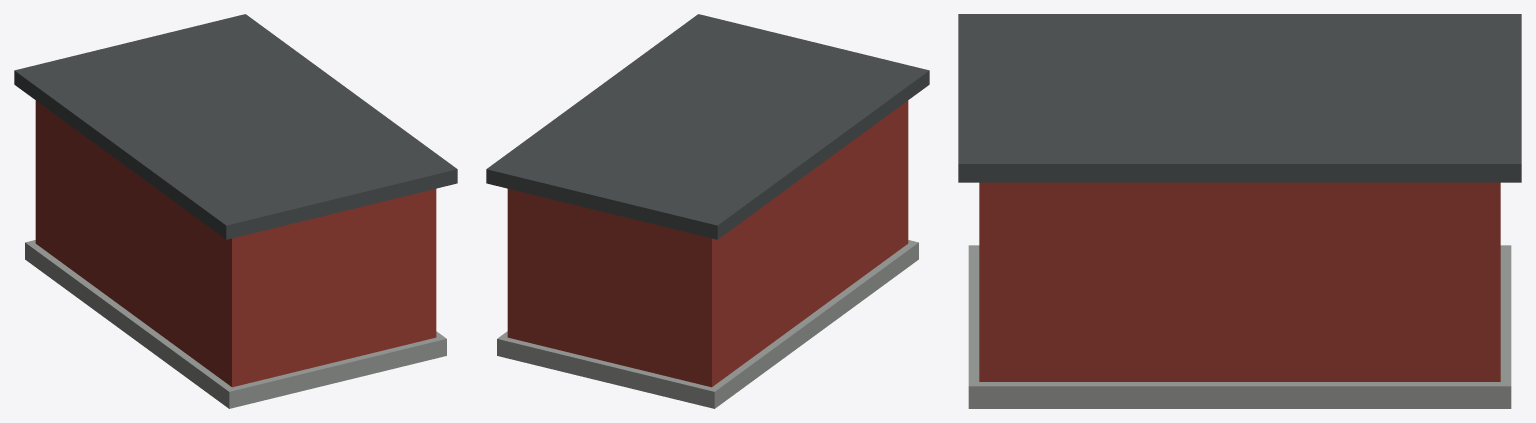
File: norway-boathouse_lod1.glb
3 renders of one model, left to right at view 1: azimuth 30°, elevation 25°; view 2: azimuth 150°, elevation 25°; view 3: azimuth 270°, elevation 25°, orthographic. The views are drawn at different scales.
Parts seen in each view (by area): view 1: RF_Boathouse_Walls, RF_Boathouse_Roof, RF_Boathouse_Foundation; view 2: RF_Boathouse_Walls, RF_Boathouse_Roof, RF_Boathouse_Foundation; view 3: RF_Boathouse_Walls, RF_Boathouse_Roof, RF_Boathouse_Foundation.
Part boxes in pixels (x1,y1,x2,y2): RF_Boathouse_Walls: (35,100,436,387); RF_Boathouse_Roof: (14,14,457,239); RF_Boathouse_Foundation: (25,240,446,408); RF_Boathouse_Walls: (507,100,908,387); RF_Boathouse_Roof: (486,14,929,239); RF_Boathouse_Foundation: (497,240,918,408); RF_Boathouse_Walls: (979,182,1500,381); RF_Boathouse_Roof: (958,14,1521,182); RF_Boathouse_Foundation: (968,245,1511,408).
Size of the model in its own units: 8.5 by 6.6 by 13.5.
